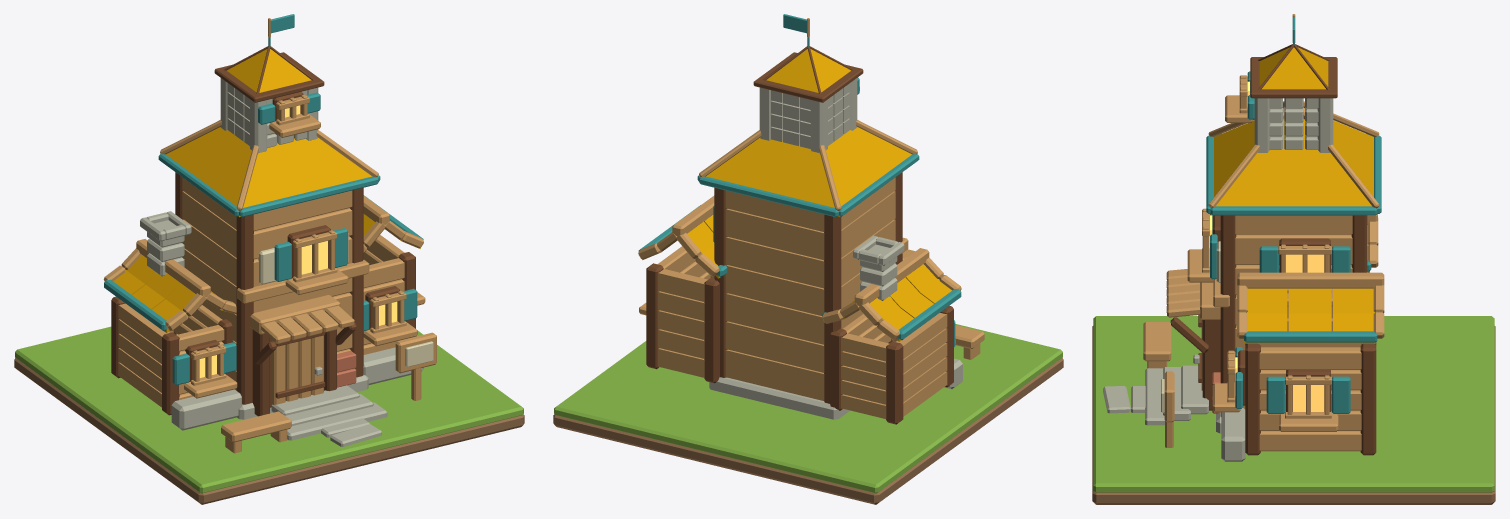
File: town_hall_l06_active_LOD0.glb
3 renders of one model, left to right at view 1: azimuth 30°, elevation 25°; view 2: azimuth 150°, elevation 25°; view 3: azimuth 270°, elevation 25°, orthographic. The views are drawn at different scales.
Parts seen in each view (by area): view 1: town_hall_l06_active_grass_tile, town_hall_l06_active_earth_tile, town_hall_l06_active_hip_roof_shingle.002, town_hall_l06_active_corner_reinforcement, town_hall_l06_active_hip_roof_shingle.011, town_hall_l06_active_stone_foundation_course, town_hall_l06_active_corner_reinforcement.002, town_hall_l06_active_central_spire_roof_shingle, town_hall_l06_active_hip_roof_shingle.001, town_hall_l06_active_wall_siding.020, town_hall_l06_active_wall_siding.024, town_hall_l06_active_wall_siding.022 (+43 smaller); view 2: town_hall_l06_active_grass_tile, town_hall_l06_active_earth_tile, town_hall_l06_active_hip_roof_shingle.008, town_hall_l06_active_wall_siding.005, town_hall_l06_active_wall_siding.017, town_hall_l06_active_wall_siding.021, town_hall_l06_active_wall_siding.001, town_hall_l06_active_wall_siding.009, town_hall_l06_active_wall_siding.013, town_hall_l06_active_hip_roof_shingle.011, town_hall_l06_active_corner_reinforcement.001, town_hall_l06_active_foundation (+38 smaller); view 3: town_hall_l06_active_grass_tile, town_hall_l06_active_earth_tile, town_hall_l06_active_hip_roof_shingle.005, town_hall_l06_active_ridge_cap.005, town_hall_l06_active_wall_siding.027, town_hall_l06_active_annex_wall.039, town_hall_l06_active_corner_reinforcement.002, town_hall_l06_active_central_spire_roof_shingle, town_hall_l06_active_hip_roof_shingle.004, town_hall_l06_active_annex_wall.023, town_hall_l06_active_corner_reinforcement.011, town_hall_l06_active_corner_reinforcement.010 (+48 smaller).
Boxes of the visible parts, bbox=[...] form: town_hall_l06_active_grass_tile: bbox=[15, 326, 523, 493]; town_hall_l06_active_earth_tile: bbox=[14, 358, 524, 504]; town_hall_l06_active_hip_roof_shingle.002: bbox=[239, 154, 371, 217]; town_hall_l06_active_corner_reinforcement: bbox=[236, 214, 253, 404]; town_hall_l06_active_hip_roof_shingle.011: bbox=[166, 138, 245, 216]; town_hall_l06_active_stone_foundation_course: bbox=[171, 389, 241, 430]; town_hall_l06_active_corner_reinforcement.002: bbox=[349, 187, 363, 377]; town_hall_l06_active_central_spire_roof_shingle: bbox=[227, 49, 311, 92]; town_hall_l06_active_hip_roof_shingle.001: bbox=[252, 137, 340, 175]; town_hall_l06_active_wall_siding.020: bbox=[253, 208, 352, 259]; town_hall_l06_active_wall_siding.024: bbox=[253, 190, 352, 231]; town_hall_l06_active_wall_siding.022: bbox=[182, 191, 236, 257]; town_hall_l06_active_grass_tile: bbox=[554, 324, 1062, 493]; town_hall_l06_active_earth_tile: bbox=[553, 358, 1063, 504]; town_hall_l06_active_hip_roof_shingle.008: bbox=[706, 154, 838, 217]; town_hall_l06_active_wall_siding.005: bbox=[725, 321, 824, 372]; town_hall_l06_active_wall_siding.017: bbox=[725, 237, 824, 288]; town_hall_l06_active_wall_siding.021: bbox=[725, 208, 824, 260]; town_hall_l06_active_wall_siding.001: bbox=[725, 349, 824, 400]; town_hall_l06_active_wall_siding.009: bbox=[725, 293, 824, 344]; town_hall_l06_active_wall_siding.013: bbox=[725, 265, 824, 315]; town_hall_l06_active_hip_roof_shingle.011: bbox=[832, 138, 911, 216]; town_hall_l06_active_corner_reinforcement.001: bbox=[824, 214, 841, 403]; town_hall_l06_active_foundation: bbox=[709, 377, 849, 419]; town_hall_l06_active_grass_tile: bbox=[1093, 316, 1494, 492]; town_hall_l06_active_earth_tile: bbox=[1092, 326, 1495, 504]; town_hall_l06_active_hip_roof_shingle.005: bbox=[1210, 175, 1377, 214]; town_hall_l06_active_ridge_cap.005: bbox=[1237, 272, 1384, 288]; town_hall_l06_active_wall_siding.027: bbox=[1235, 215, 1352, 234]; town_hall_l06_active_annex_wall.039: bbox=[1259, 347, 1361, 369]; town_hall_l06_active_corner_reinforcement.002: bbox=[1220, 215, 1236, 416]; town_hall_l06_active_central_spire_roof_shingle: bbox=[1259, 47, 1328, 89]; town_hall_l06_active_hip_roof_shingle.004: bbox=[1240, 139, 1347, 175]; town_hall_l06_active_annex_wall.023: bbox=[1259, 431, 1361, 451]; town_hall_l06_active_corner_reinforcement.011: bbox=[1360, 343, 1376, 455]; town_hall_l06_active_corner_reinforcement.010: bbox=[1245, 343, 1260, 455].
Bounding box in the file's own units: 3.6 × 4.01 × 3.6.
